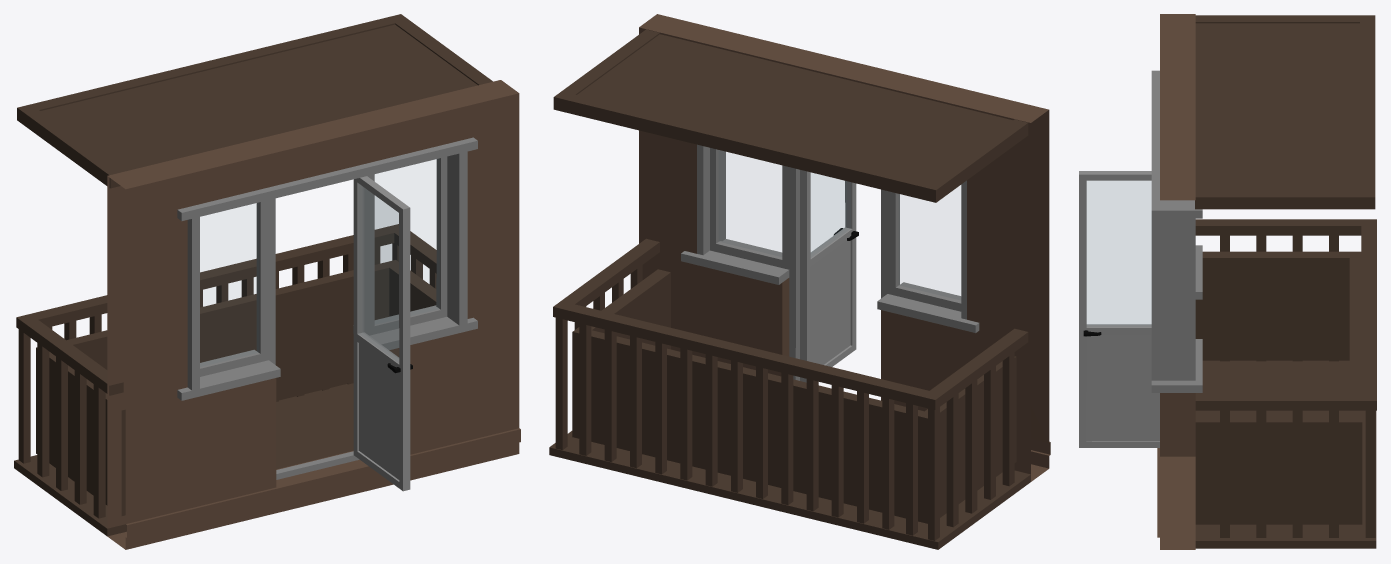
3 renders of one model, left to right at view 1: azimuth 30°, elevation 25°; view 2: azimuth 150°, elevation 25°; view 3: azimuth 270°, elevation 25°, orthographic. The views are drawn at different scales.
Parts seen in each view (by area): view 1: Hub_3_balcony_031, Balcony_door_017; view 2: Hub_3_balcony_031, Balcony_door_017; view 3: Hub_3_balcony_031, Balcony_door_017.
Part boxes in pixels (x1,y1,x2,y2): Hub_3_balcony_031: (14,14,520,549); Balcony_door_017: (353,176,412,491); Hub_3_balcony_031: (549,14,1050,549); Balcony_door_017: (800,170,858,382); Hub_3_balcony_031: (1151,14,1376,549); Balcony_door_017: (1079,171,1159,447).
Bounding box in the file's own units: 320 × 280 × 216.
